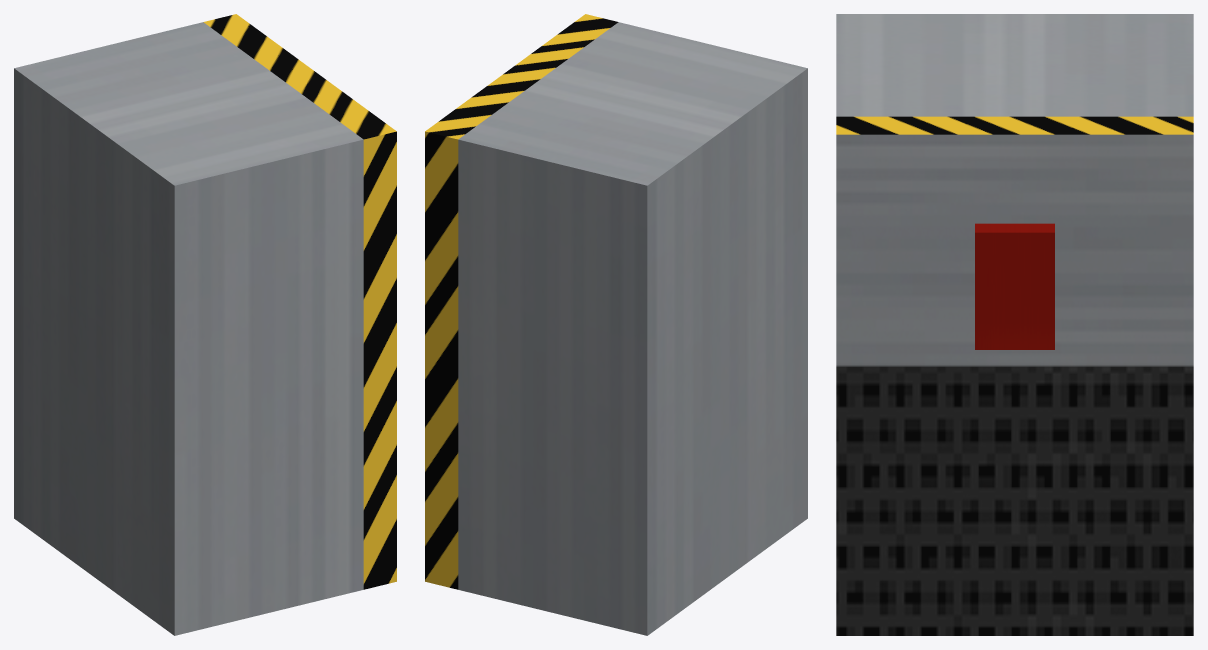
Rendered from Elevatorbuttons.fbx.
3 renders of one model, left to right at view 1: azimuth 30°, elevation 25°; view 2: azimuth 150°, elevation 25°; view 3: azimuth 270°, elevation 25°, orthographic. The views are drawn at different scales.
Visible parts, largest first — view 1: Cube; view 2: Cube; view 3: Cube, Cube.001.
Boxes of the visible parts, x1,y1,x2,y2 form: Cube: [14, 14, 396, 635]; Cube: [425, 14, 807, 635]; Cube: [836, 14, 1193, 635]; Cube.001: [975, 223, 1054, 349].
Size of the model in its own units: 111 by 200 by 129.
